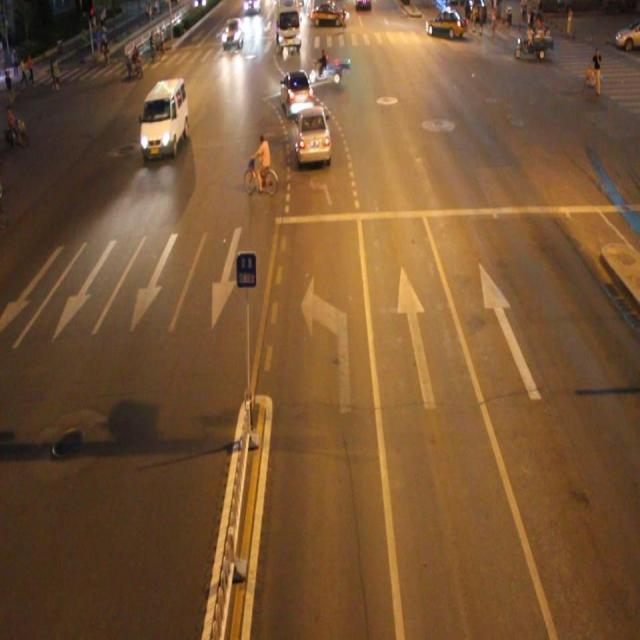car: (295, 104, 334, 164), (280, 67, 316, 119)
truck: (140, 78, 189, 158)
